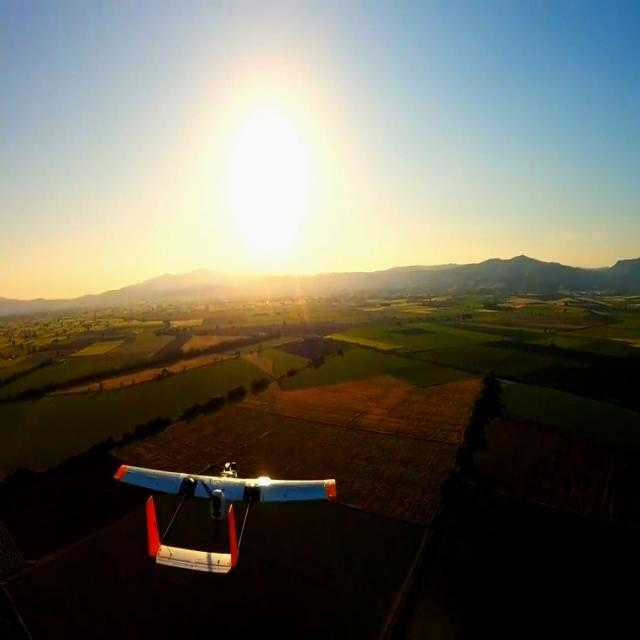iha: (107, 452, 342, 582)
